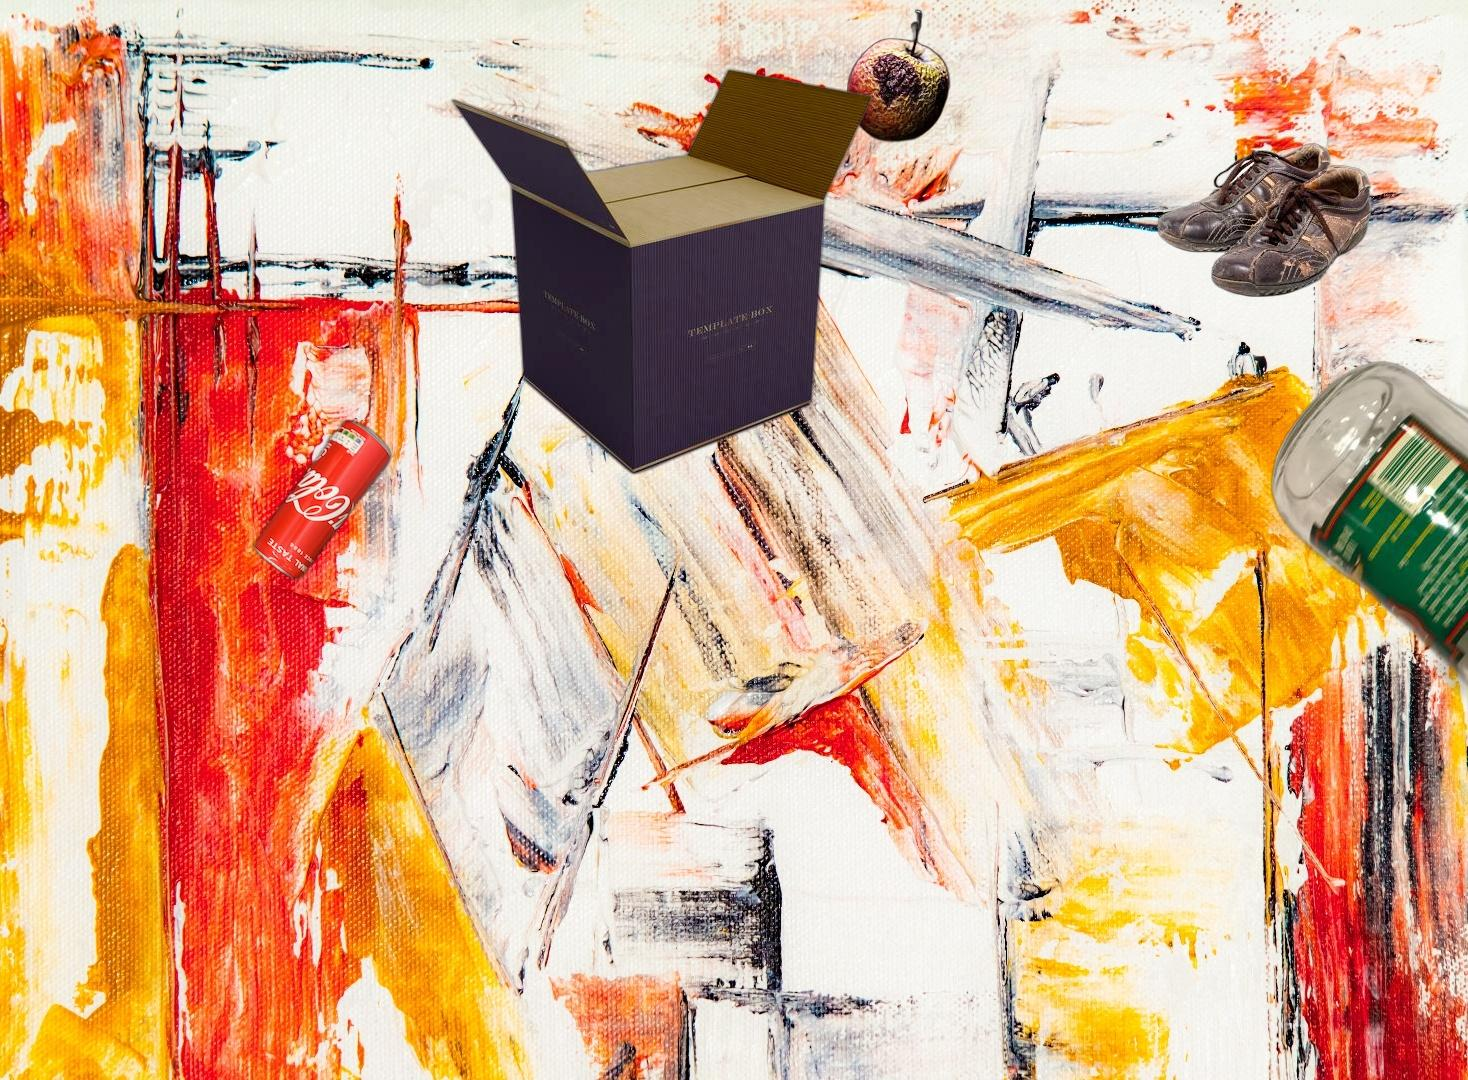biological: (845, 5, 953, 145)
glass: (1266, 358, 1468, 735)
metal-cans: (250, 414, 395, 586)
shoes: (1155, 141, 1375, 298)
trashbox-cardboard: (448, 67, 878, 478)
